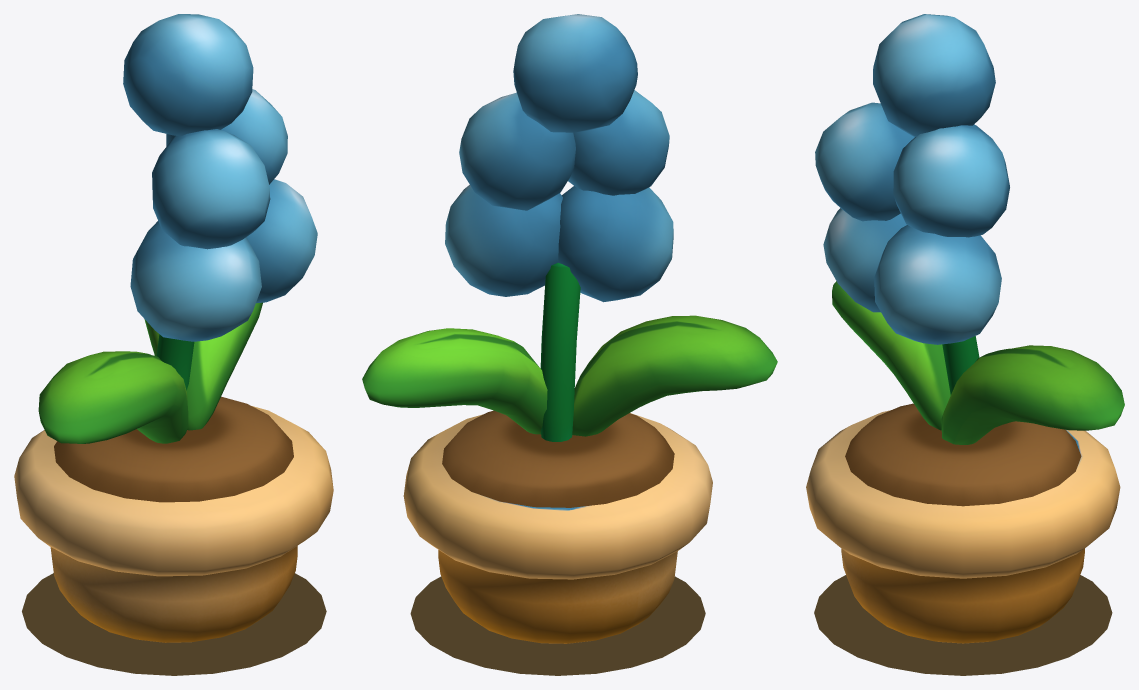
Rendered from Flower02B_L04.fbx.
3 views of the same model, side by side, from view 1: azimuth 30°, elevation 25°; view 2: azimuth 150°, elevation 25°; view 3: azimuth 270°, elevation 25° (orthographic). The views are drawn at different scales.
Visible parts, largest first — view 1: Flower2BL4_Body, Flower2BL4_Base, Flower2BL4_SDW; view 2: Flower2BL4_Body, Flower2BL4_Base, Flower2BL4_SDW; view 3: Flower2BL4_Body, Flower2BL4_Base, Flower2BL4_SDW.
Part boxes in pixels (left/top/right/bottom): Flower2BL4_Body: left=38, top=14, right=317, bottom=443; Flower2BL4_Base: left=14, top=396, right=333, bottom=642; Flower2BL4_SDW: left=22, top=573, right=326, bottom=675; Flower2BL4_Body: left=362, top=14, right=777, bottom=441; Flower2BL4_Base: left=403, top=410, right=712, bottom=643; Flower2BL4_SDW: left=410, top=576, right=705, bottom=675; Flower2BL4_Body: left=815, top=14, right=1124, bottom=444; Flower2BL4_Base: left=806, top=403, right=1120, bottom=643; Flower2BL4_SDW: left=814, top=575, right=1112, bottom=675.
Size of the model in its own units: 101 by 185 by 90.71.
2 materials, 1 textured.
